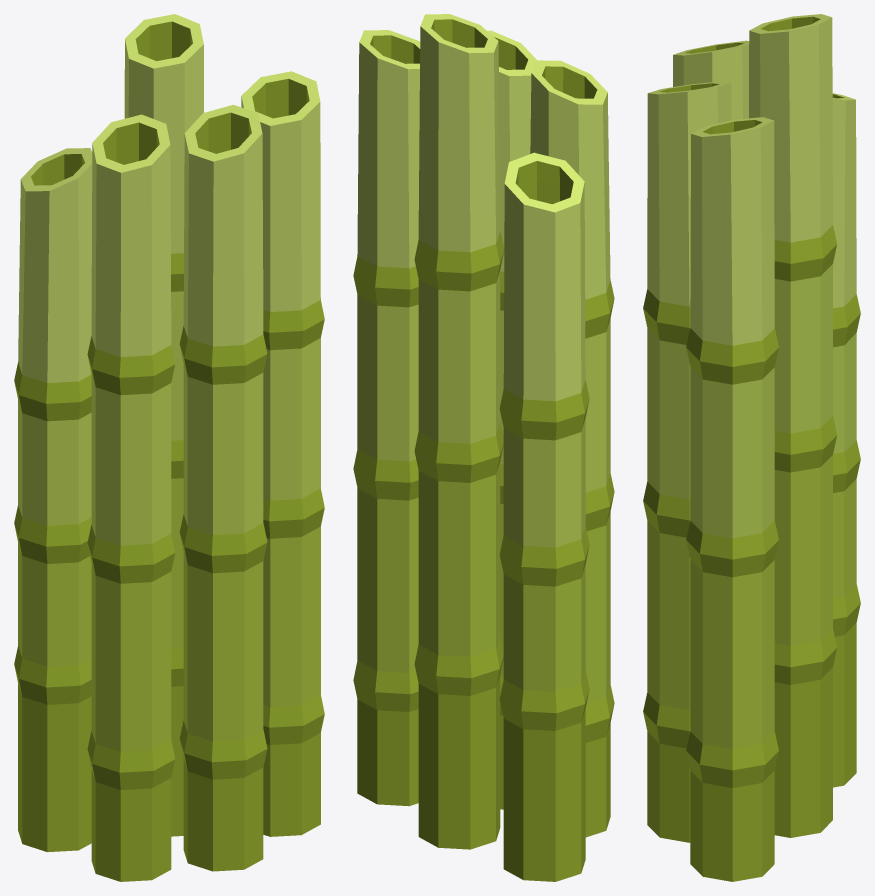
The model's file is fence_bamboo_green_3.fbx.
3 views of the same model, side by side, from view 1: azimuth 30°, elevation 25°; view 2: azimuth 150°, elevation 25°; view 3: azimuth 270°, elevation 25° (orthographic). The views are drawn at different scales.
Visible parts, largest first — view 1: fence_bamboo_green_3; view 2: fence_bamboo_green_3; view 3: fence_bamboo_green_3.
Part boxes in pixels (x1=…): fence_bamboo_green_3: x1=14, y1=14, x2=324, y2=881; fence_bamboo_green_3: x1=353, y1=14, x2=614, y2=881; fence_bamboo_green_3: x1=643, y1=14, x2=860, y2=881.
Bounding box in the file's own units: 80.4 × 232 × 56.77.
